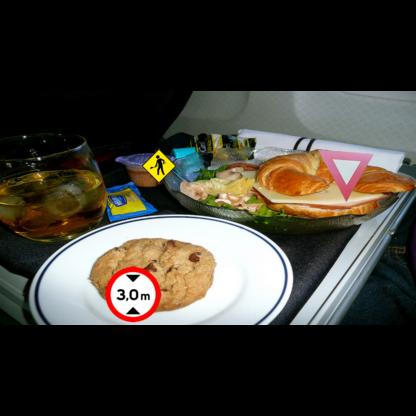A-24: (142, 149, 176, 183)
R-15: (105, 266, 161, 322)
R-2: (318, 150, 373, 202)
